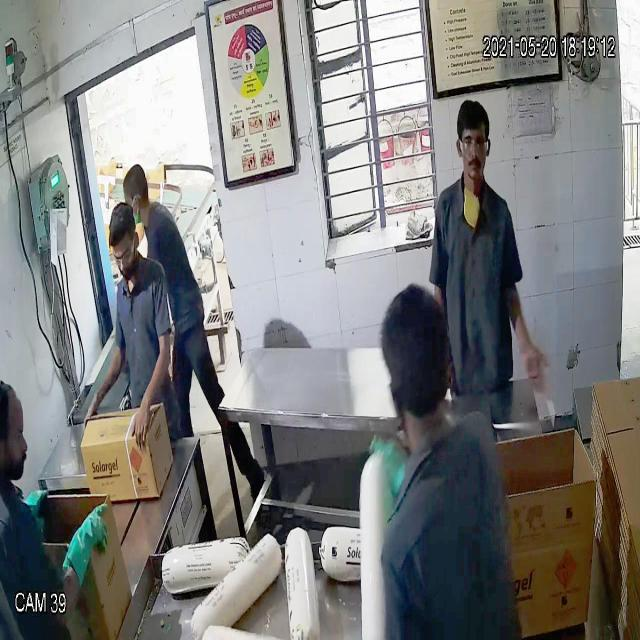glasses: (452, 132, 496, 159), (109, 244, 141, 266)
